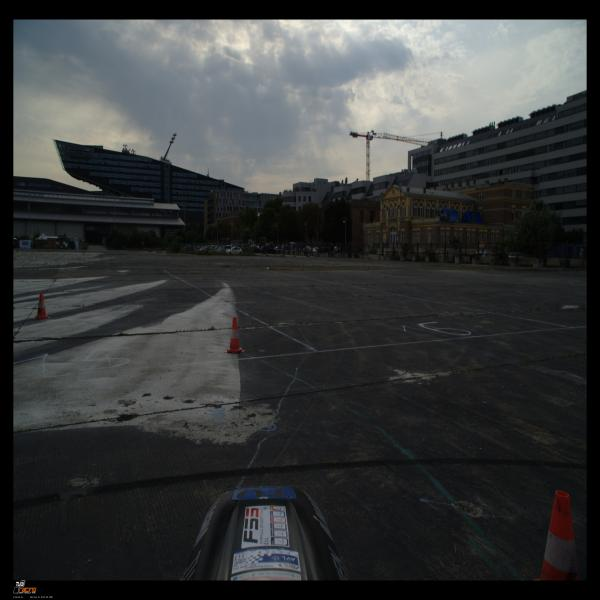orange_cone: (534, 490, 579, 580), (224, 317, 245, 354), (33, 292, 50, 318)
